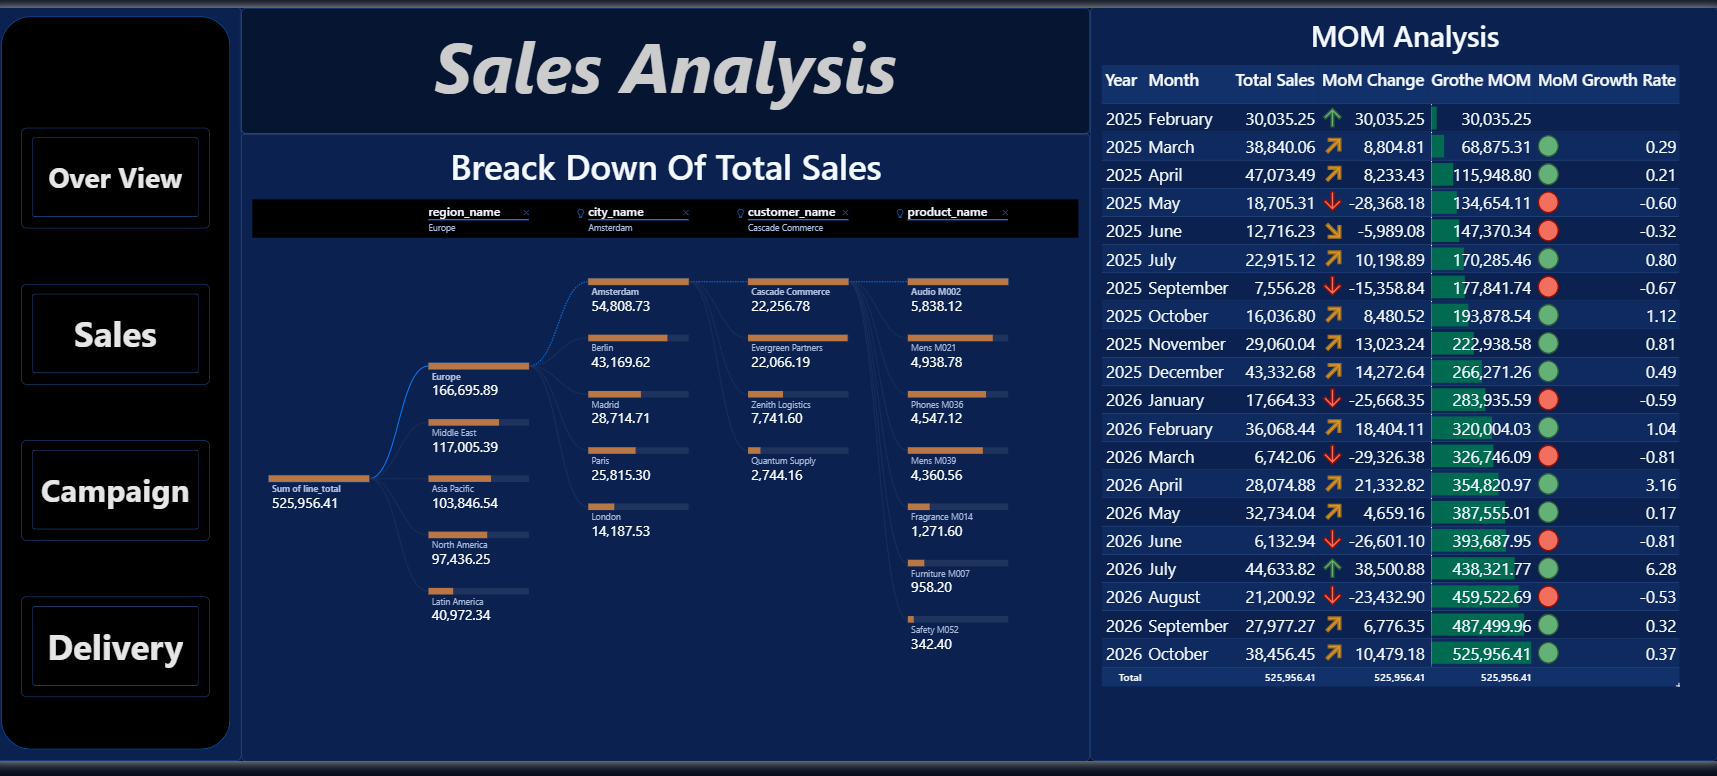

This screenshot's page, from the dashboard's own definition file:
{"tool":"powerbi","page":{"name":"Sales","canvas":[2650,1150],"ordinal":1},"visuals":[{"type":"shape","box":[0,-2,384,1152],"z":0,"group":"g3"},{"type":"group","id":"g1","title":"Group 1","box":[0,-2,384,1152],"z":0,"group":"g2"},{"type":"decompositionTreeVisual","title":"Breack Down Of Total Sales","fields":{"Analyze":["Sum(fact_sales.line_total)"],"ExplainBy":["dim_customer.region_name","dim_customer.city_name","dim_customer.customer_name","dim_proudect.product_name"]},"box":[384,190,1296,960],"z":0},{"type":"tableEx","title":"MOM Analysis","fields":{"Values":["dim_date.Date.Variation.Date Hierarchy.Year","dim_date.Date.Variation.Date Hierarchy.Month","Sum(fact_sales.line_total)","select","select1","select3","select4","select2"]},"box":[1680,-2,960,1152],"z":1000},{"type":"actionButton","box":[48,182.5,288,153.6],"z":1000,"group":"g2"},{"type":"group","id":"g2","title":"Group 3","box":[0,-2,384,1152],"z":2000},{"type":"actionButton","box":[48,421.5,288,153.6],"z":2000,"group":"g2"},{"type":"textbox","box":[384,0,1296,192],"z":3000},{"type":"actionButton","box":[48,660.4,288,153.6],"z":3000,"group":"g2"},{"type":"actionButton","box":[48,899.3,288,153.6],"z":4000,"group":"g2"},{"type":"group","id":"g3","title":"Group 2","box":[0,-2,384,1152],"z":9007,"group":"g1"}]}

Visuals, with their boxes on the page's 2650x1150 design canvas (x1, y1, x2, y2). These are canvas units, not pixel positions in the 1717x776 screenshot, which may show the page scaled, cropped or inside an application window:
shape: pyautogui.locateOnScreen(0, -2, 384, 1150)
"Group 1" group: pyautogui.locateOnScreen(0, -2, 384, 1150)
"Breack Down Of Total Sales" decompositionTreeVisual: pyautogui.locateOnScreen(384, 190, 1680, 1150)
"MOM Analysis" tableEx: pyautogui.locateOnScreen(1680, -2, 2640, 1150)
actionButton: pyautogui.locateOnScreen(48, 182, 336, 336)
"Group 3" group: pyautogui.locateOnScreen(0, -2, 384, 1150)
actionButton: pyautogui.locateOnScreen(48, 422, 336, 575)
textbox: pyautogui.locateOnScreen(384, 0, 1680, 192)
actionButton: pyautogui.locateOnScreen(48, 660, 336, 814)
actionButton: pyautogui.locateOnScreen(48, 899, 336, 1053)
"Group 2" group: pyautogui.locateOnScreen(0, -2, 384, 1150)
